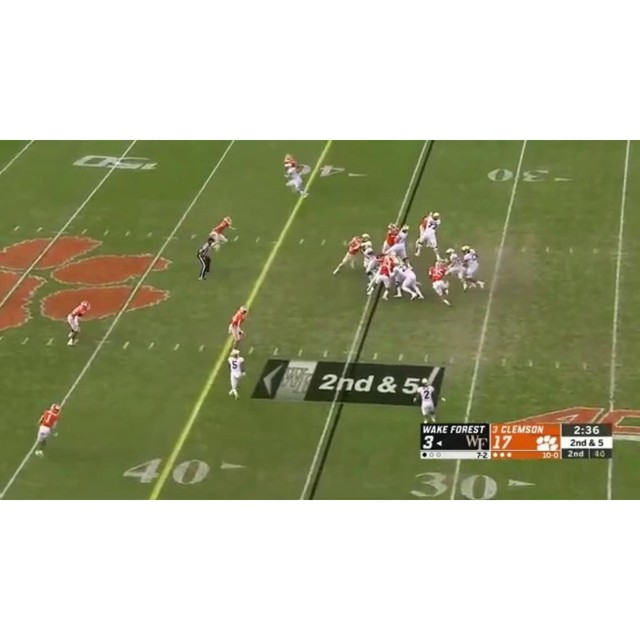american-football-player: (33, 403, 61, 459), (332, 233, 369, 275), (414, 211, 443, 260), (366, 255, 394, 300), (428, 259, 453, 307), (394, 261, 423, 302), (283, 154, 310, 198), (66, 299, 90, 347), (461, 245, 486, 290), (416, 378, 438, 423), (227, 349, 246, 401), (444, 247, 467, 289), (228, 304, 248, 349), (209, 216, 235, 246)
referee: (196, 233, 219, 282)
